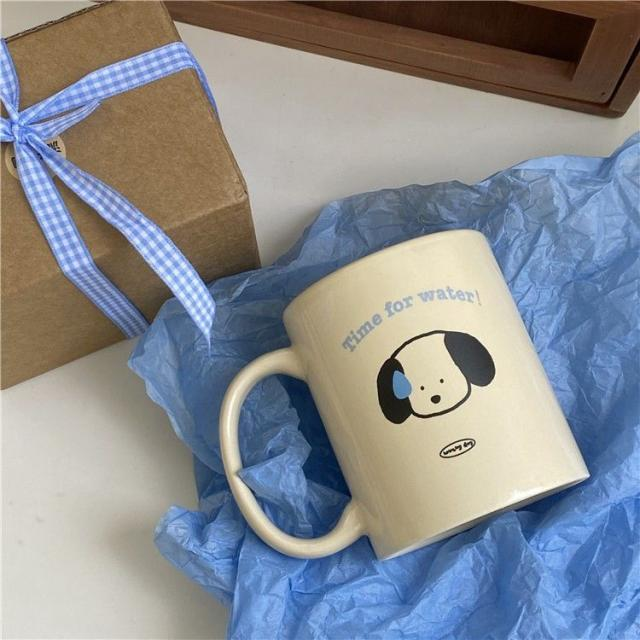glass cup: (220, 230, 592, 562)
